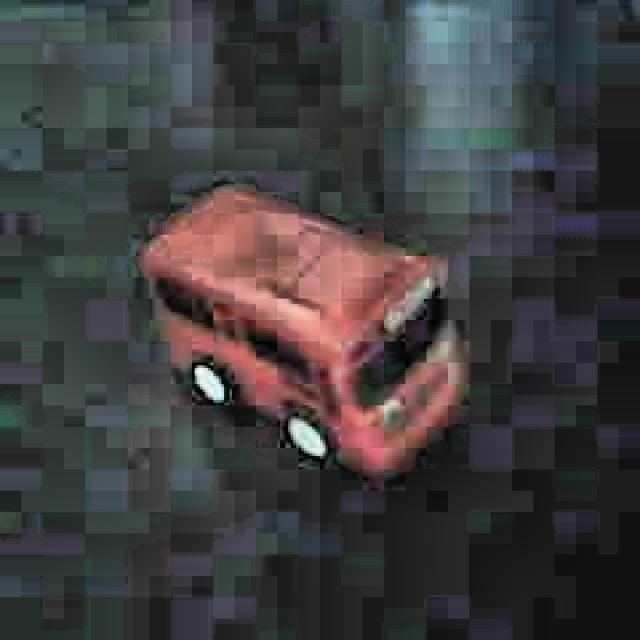bus: (138, 180, 468, 482)
